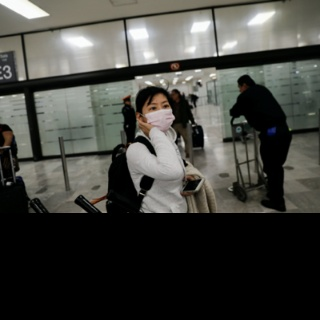with_mask: (143, 100, 175, 132)
